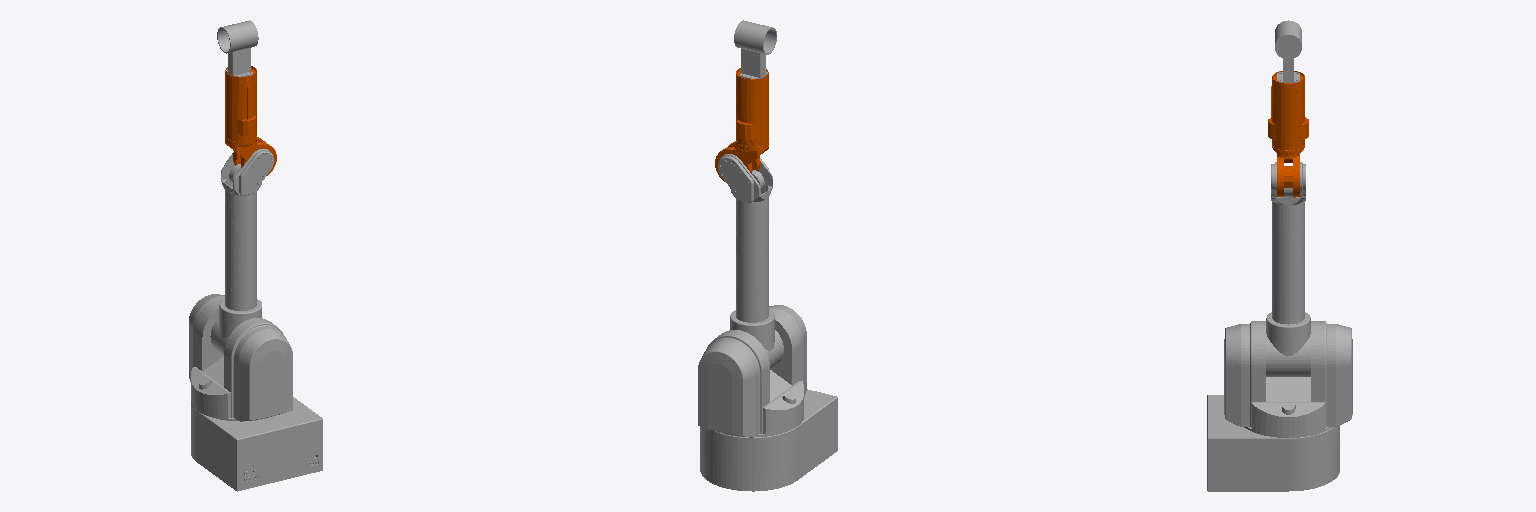
The robot description file, URDF, robot "wam":
<?xml version="1.0" ?>
<!-- =================================================================================== -->
<!-- |    This document was autogenerated by xacro from wam7.urdf.xacro                | -->
<!-- |    EDITING THIS FILE BY HAND IS NOT RECOMMENDED                                 | -->
<!-- =================================================================================== -->
<robot name="wam" xmlns:xacro="http://www.ros.org/wiki/xacro">

    <!-- Materials -->
    <material name="WAMGrey">
        <color rgba="0.7 0.7 0.7 1.0"/>
    </material>

    <!-- Root link is in the world frame-->
    <link name="world"/>
    <joint name="wam_fixed_joint" type="fixed">
        <parent link="world"/>
        <child link="base_link"/>
        <origin rpy="0 0 1.5707" xyz="0.0 0.0 0.0"/>
    </joint>

    <link name="base_link">
        <inertial>
            <origin rpy="1.57 0 0" xyz="0.0 0.0 0.84"/>
            <mass value="1"/>
            <inertia ixx="0.1" ixy="0" ixz="0" iyy="0.1" iyz="0" izz="0.1"/>
        </inertial>
        <visual>
            <material name="WAMGrey">
                <color rgba="0.7 0.7 0.7 0.0"/>
            </material>
            <geometry>
                <mesh filename="sw_meshes/base_link_fine.obj"/>
            </geometry>
        </visual>
        <collision>
            <geometry>
                <mesh filename="sw_meshes/base_link_convex.obj"/>
            </geometry>
        </collision>
    </link>
    <joint name="R_SFE" type="revolute">
        <parent link="base_link"/>
        <child link="shoulder_yaw_link"/>
        <origin rpy="0 0 -1.57079632679" xyz="0 0 0.346"/>
        <axis xyz="0 0 1"/>
        <limit effort="60" lower="-2.6" upper="2.6" velocity="2.0"/>
        <dynamics damping="0.9" friction="0"/>
    </joint>

    <link name="shoulder_yaw_link">
        <inertial>
            <origin xyz="-.00443422 -.00066489 -0.1289039 "/>
            <mass value="5.0"/>
            <inertia ixx=".13488033" ixy="-0.00012485" ixz="0.00213041" iyy=".09046330" iyz="-.00068555"
                     izz=".11328369"/>
        </inertial>
        <visual>
            <material name="WAMGrey">
                <color rgba="0.7 0.7 0.7 1.0"/>
            </material>
            <geometry>
                <mesh filename="sw_meshes/shoulder_link_fine.obj"/>
            </geometry>
        </visual>
        <collision>
            <geometry>
                <mesh filename="sw_meshes/shoulder_link_convex_decomposition.obj"/>
            </geometry>
        </collision>
    </link>

    <joint name="R_SAA" type="revolute">
        <parent link="shoulder_yaw_link"/>
        <child link="shoulder_pitch_link"/>
        <origin rpy="-1.57079632679 0 0" xyz="0 0 0"/>
        <axis xyz="0 0 1"/>
        <limit effort="60" lower="-2.1" upper="2.0" velocity="2.0"/>
        <dynamics damping="0.25" friction="0"/>
    </joint>

    <link name="shoulder_pitch_link">
        <visual>
            <material name="WAMGrey">
                <color rgba="0.7 0.7 0.7 1.0"/>
            </material>
            <geometry>
                <mesh filename="sw_meshes/shoulder_pitch_link_fine.obj"/>
            </geometry>
        </visual>
        <inertial>
            <origin xyz="-.00236981 -.01542114 .03105614 "/>
            <mass value="3.87493756"/>
            <inertia ixx="0.02140958" ixy="-0.00002461" ixz="0.00027172" iyy="0.015589060" iyz="0.0018192"
                     izz="0.01377875"/>
        </inertial>
        <collision>
            <geometry>
                <mesh filename="sw_meshes/shoulder_pitch_link_convex.obj"/>
            </geometry>
        </collision>
    </link>

    <joint name="R_HR" type="revolute">
        <parent link="shoulder_pitch_link"/>
        <child link="upper_arm_link"/>
        <origin rpy="1.57079632679 0 0" xyz="0 0 0"/>
        <axis xyz="0 0 1"/>
        <limit effort="45" lower="-2.8" upper="2.8" velocity="2.0"/>
        <dynamics damping="0.75" friction="0"/>
    </joint>

    <link name="upper_arm_link">
        <inertial>
            <origin xyz="0.00683258580000000 0.000033090000000 0.392492300000000"/>
            <mass value="2.20228141"/>
            <inertia ixx=".05911077" ixy="-0.00000738" ixz="-0.00249612" iyy="0.05927043" iyz="0.00001767"
                     izz="0.0032455"/>
        </inertial>
        <visual>
            <material name="WAMGrey">
                <color rgba="0.7 0.7 0.7 1.0"/>
            </material>
            <geometry>
                <mesh filename="sw_meshes/upper_arm_link_fine.obj"/>
            </geometry>
        </visual>
        <collision>
            <geometry>
                <mesh filename="sw_meshes/upper_arm_link_convex_decomposition.obj"/>
            </geometry>
        </collision>
    </link>

    <joint name="R_EB" type="revolute">
        <parent link="upper_arm_link"/>
        <child link="forearm_link"/>
        <origin rpy="-1.57079632679 0 0" xyz="0.045 0 0.55"/>
        <axis xyz="0 0 1"/>
        <limit effort="30" lower="-0.9" upper="3.2" velocity="2.00"/>
        <dynamics damping="0.4" friction="0"/>
    </joint>

    <link name="forearm_link">
        <inertial>
            <mass value="1.06513649"/>
            <origin rpy="1.5707 0 0" xyz="0.01095471 0.14053900 -0.00002567"/>
            <inertia ixx="0.03952350" ixy="0.00000189" ixz="0.00003117" iyy="0.04008214" iyz="0.00000131"
                     izz="0.00210299"/>
        </inertial>
        <visual>
            <origin rpy="0 0 0" xyz="0 0 0"/>
            <geometry name="link_j4_visual">
                <mesh filename="sw_meshes/wam4.obj"/>
            </geometry>
        </visual>
        <collision>
            <origin rpy="1.5707 0 0" xyz="0 0 0"/>
            <geometry name="link_j4_collision">
                <mesh filename="sw_meshes/wam4.obj"/>
            </geometry>
            <contact_coefficients kd="1000.0" kp="1000.0" mu="0"/>
        </collision>
    </link>

    <joint name="FOREARM_TO_CUP" type="fixed">
        <parent link="forearm_link"/>
        <child link="cup"/>
        <origin xyz="-0.1 -0.3225 0.0"/>
    </joint>

    <link name="cup">
        <inertial>
            <mass value="0.132"/>
            <origin xyz="-3.75236e-10 8.27811e-05 0.0947015" rpy="0.0 -0.0199993 0.0"/>
            <inertia ixx="0.000285643" ixy="0.0" ixz="0.0" iyy="0.000270485" iyz="0.0" izz="9.65696e-05"/>
        </inertial>
        <visual>
            <origin rpy="1.5707 -1.5707 0" xyz="0. 0. 0."/>
            <material name="WAMGrey">
                <color rgba="0.7 0.7 0.7 1.0"/>
            </material>
            <geometry name="cup_visual">
                <mesh filename="sw_meshes/cup.obj" scale="0.001 0.001 0.001"/>
            </geometry>
        </visual>
        <collision>
            <origin rpy="1.5707 -1.5707 0" xyz="0 0 0"/>
            <geometry name="cup_collision">
                <mesh filename="sw_meshes/cup.obj" scale="0.001 0.001 0.001"/>
            </geometry>
        </collision>
    </link>

    <!--  <joint name="attach" type="fixed">-->
    <!--    <origin xyz="0.0 0.0 0.0" rpy="0 0 0"/>-->
    <!--    <parent link="cup"/>-->
    <!--    <child link="soft"/>-->
    <!--  </joint>-->

    <!--  <link name="soft">-->
    <!--    <fem>-->
    <!--      <origin rpy="0.0 0.0 0.0" xyz="0 0 -1.2"/>-->
    <!--      <density value="1000"/>-->
    <!--      <youngs value="1e5"/>-->
    <!--      <poissons value="0.45"/>-->
    <!--      <damping value="0.0"/>-->
    <!--      <attachDistance value="0.0"/>-->
    <!--      <tetmesh filename="icosphere_mod.tet"/>-->
    <!--    </fem>-->
    <!--  </link>-->


</robot>

--- Render facts (derived) ---
The picture shows the robot from 3 angles, left to right: view 1: azimuth 30°, elevation 25°; view 2: azimuth 150°, elevation 25°; view 3: azimuth 270°, elevation 25°; orthographic projection.
Robot: wam — 7 links, 6 joints (4 revolute, 2 fixed); root link world; default pose: all joints at 0.
Visible links, largest first — view 1: shoulder_yaw_link, base_link, upper_arm_link, forearm_link, cup, shoulder_pitch_link; view 2: shoulder_yaw_link, base_link, upper_arm_link, forearm_link, cup, shoulder_pitch_link; view 3: shoulder_yaw_link, base_link, upper_arm_link, forearm_link, shoulder_pitch_link, cup.
Link boxes in pixels (left/top/right/bottom): shoulder_yaw_link: left=189, top=294, right=292, bottom=421; base_link: left=191, top=397, right=322, bottom=491; upper_arm_link: left=221, top=149, right=273, bottom=310; forearm_link: left=225, top=66, right=276, bottom=175; cup: left=217, top=20, right=258, bottom=76; shoulder_pitch_link: left=210, top=299, right=261, bottom=354; shoulder_yaw_link: left=698, top=305, right=806, bottom=437; base_link: left=700, top=389, right=837, bottom=491; upper_arm_link: left=718, top=154, right=772, bottom=322; forearm_link: left=715, top=68, right=768, bottom=181; cup: left=734, top=20, right=776, bottom=78; shoulder_pitch_link: left=730, top=310, right=783, bottom=368; shoulder_yaw_link: left=1224, top=321, right=1352, bottom=437; base_link: left=1207, top=395, right=1339, bottom=491; upper_arm_link: left=1271, top=162, right=1305, bottom=324; forearm_link: left=1268, top=71, right=1308, bottom=196; shoulder_pitch_link: left=1266, top=312, right=1310, bottom=376; cup: left=1275, top=20, right=1301, bottom=82.
Size in the robot's own frame: 0.28 by 0.3938 by 1.32 metres.
Meshes: 6 distinct files referenced, 6 mesh visuals loaded (6 OBJ).